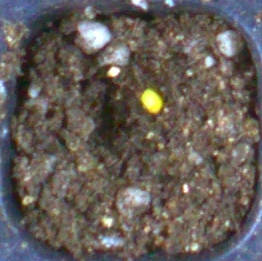chilli seed: (140, 89, 162, 114)
